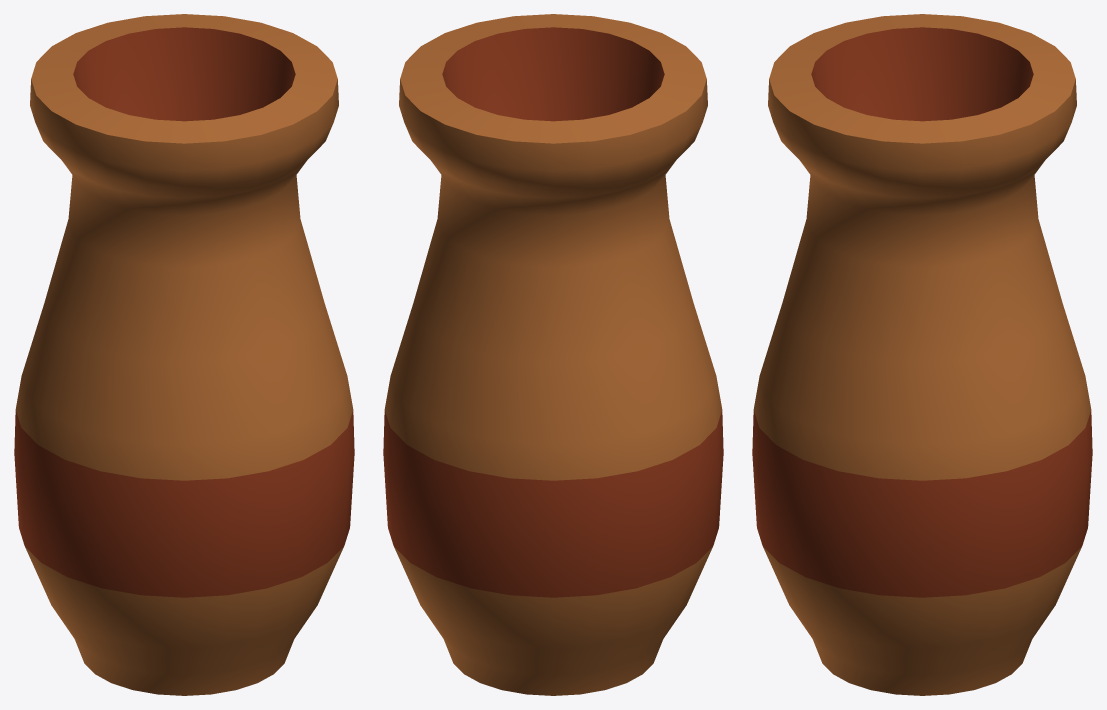
The model's file is potA_decorated.obj.
3 renders of one model, left to right at view 1: azimuth 30°, elevation 25°; view 2: azimuth 150°, elevation 25°; view 3: azimuth 270°, elevation 25°, orthographic.
Parts seen in each view (by area): view 1: potA_decorated_Cylinder.006; view 2: potA_decorated_Cylinder.006; view 3: potA_decorated_Cylinder.006.
Boxes of the visible parts, x1,y1,x2,y2 form: potA_decorated_Cylinder.006: [14, 14, 354, 695]; potA_decorated_Cylinder.006: [383, 14, 723, 695]; potA_decorated_Cylinder.006: [752, 14, 1092, 695].
Bounding box in the file's own units: 0.5242 × 0.9821 × 0.5242.
